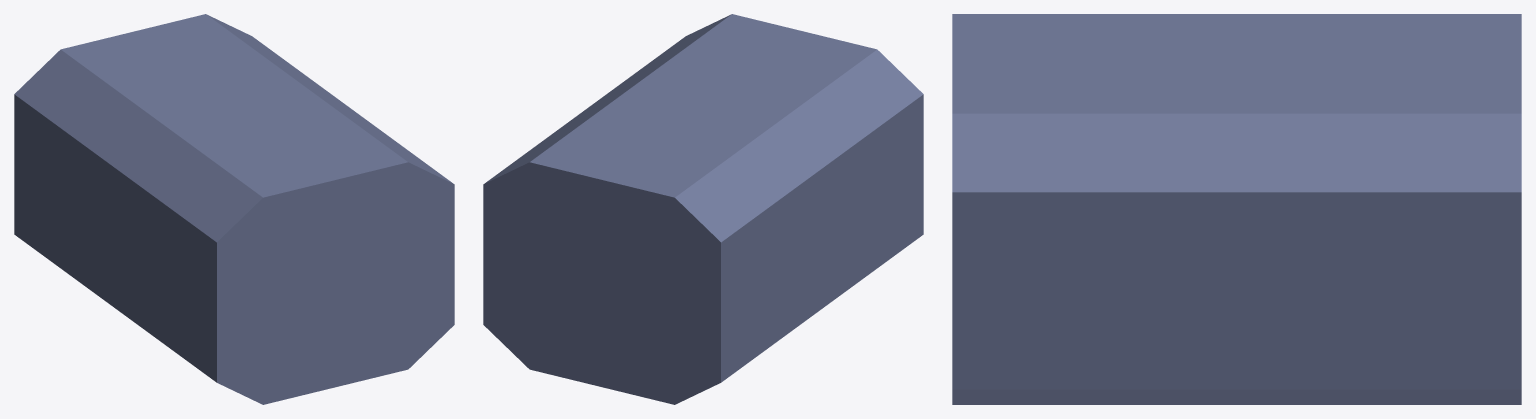
Rendered from Edifici001.fbx.
3 views of the same model, side by side, from view 1: azimuth 30°, elevation 25°; view 2: azimuth 150°, elevation 25°; view 3: azimuth 270°, elevation 25° (orthographic). The views are drawn at different scales.
Visible parts, largest first — view 1: Cube.000; view 2: Cube.000; view 3: Cube.000.
Part boxes in pixels (box(x1,y1,x2,y2)): Cube.000: box(14, 14, 454, 404); Cube.000: box(483, 14, 923, 404); Cube.000: box(952, 14, 1521, 404).
Size of the model in its own units: 1326 by 1104 by 1956.
